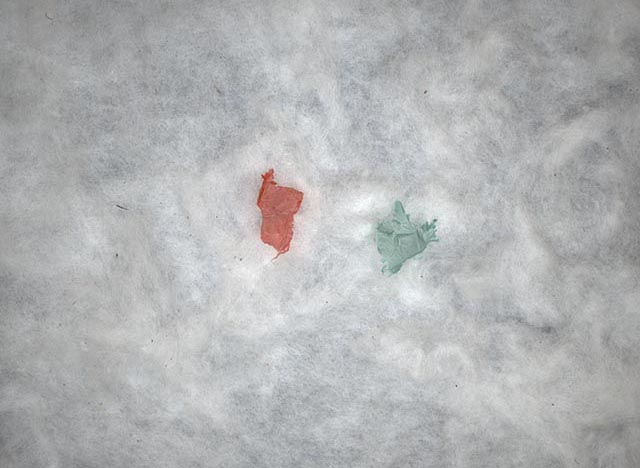plastic film: (374, 201, 439, 275), (257, 167, 303, 256)
